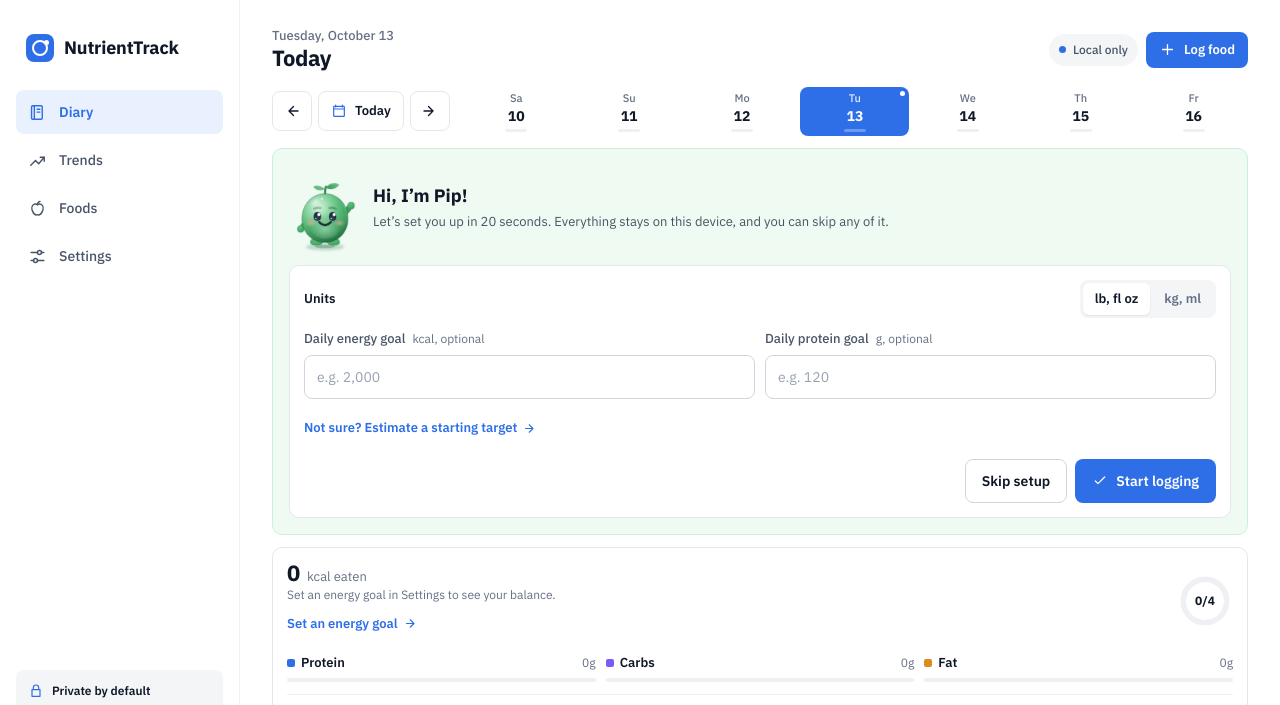
Test case: first-run welcome › saves_the_answers_as_goals_and_marks_the_welcome_done
Expected: the element "Hi, I’m Pip!" is shown, [272,148,1248,535]
Click the button "kg, ml". click: x=1183, y=299
box: [1152,283,1213,315]
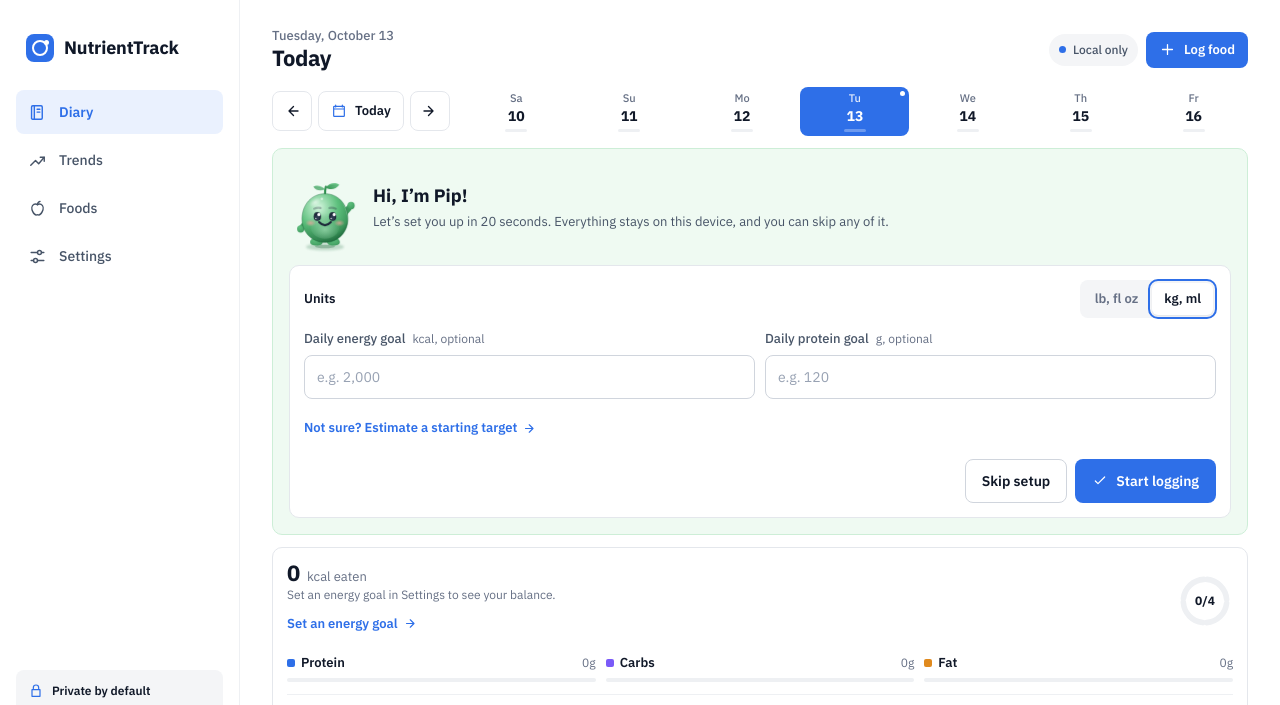
Type "2100" into the number field labelled "Daily energy goal kcal, optional". click: x=530, y=377
box: [304,355,755,399]
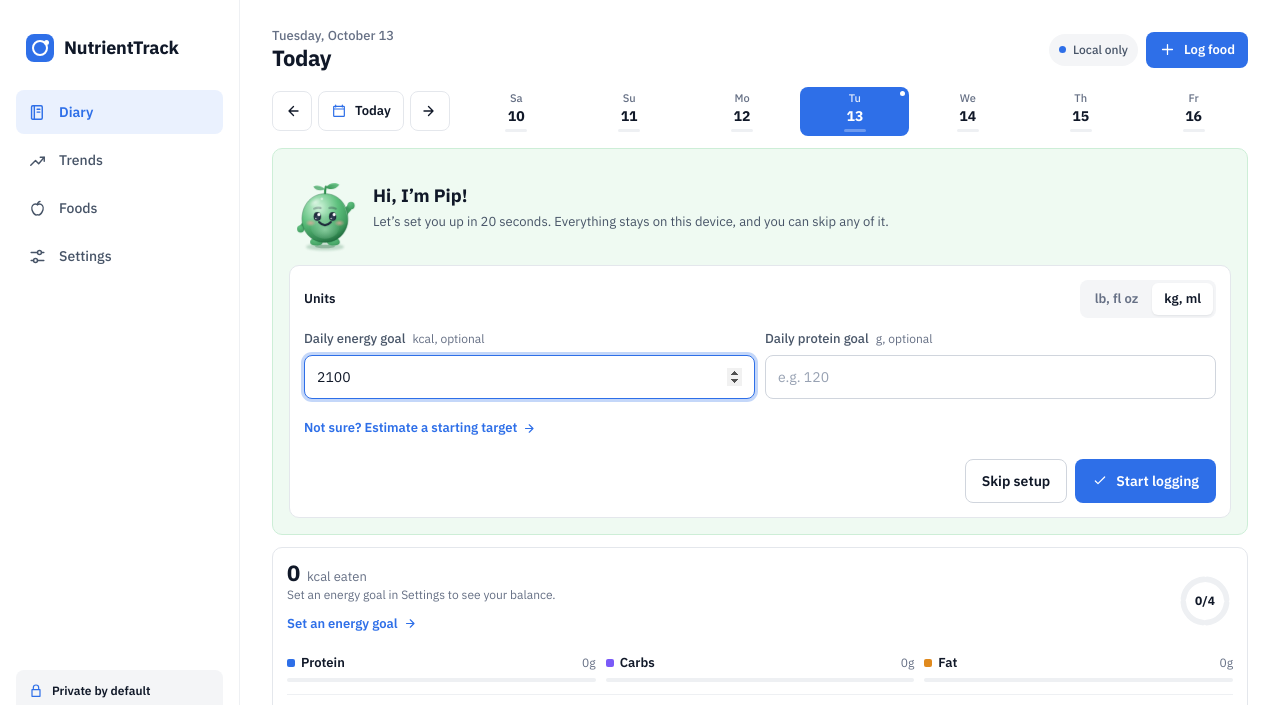
Type "130" into the number field labelled "Daily protein goal g, optional". click: x=990, y=377
box: [765,355,1216,399]
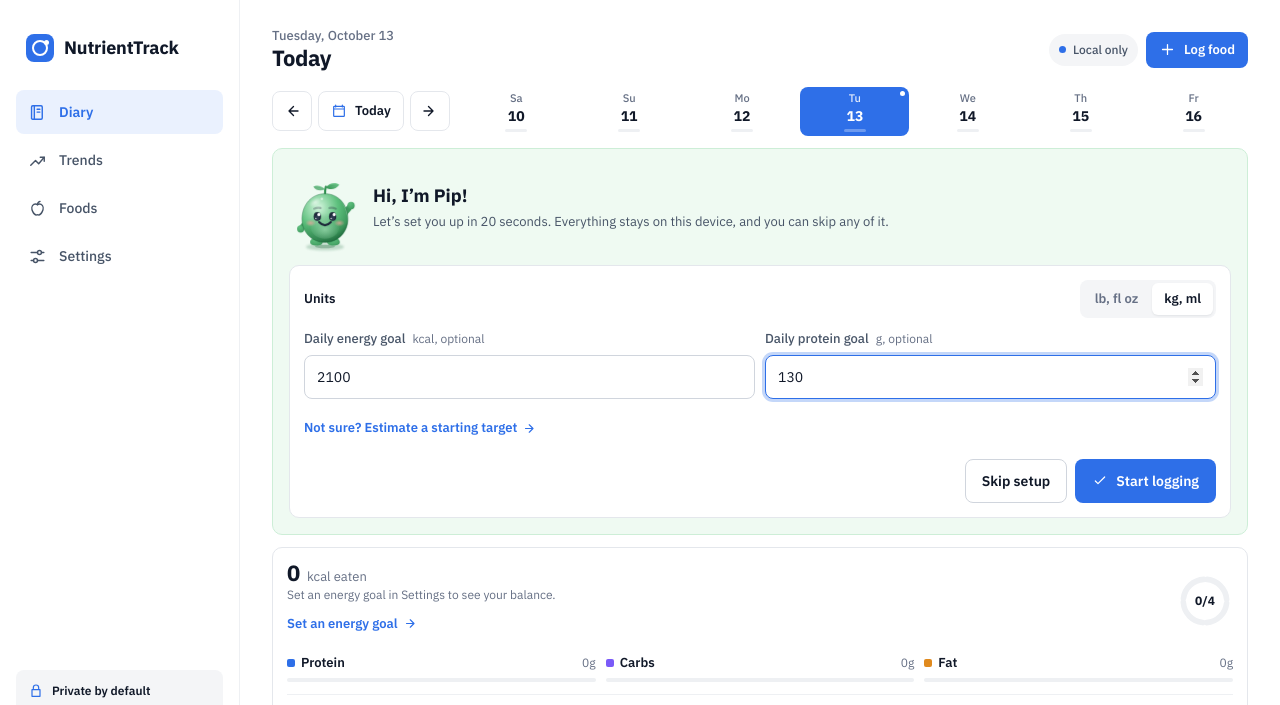
Click the button "Start logging". click: x=1146, y=481
box: [1075,459,1216,503]
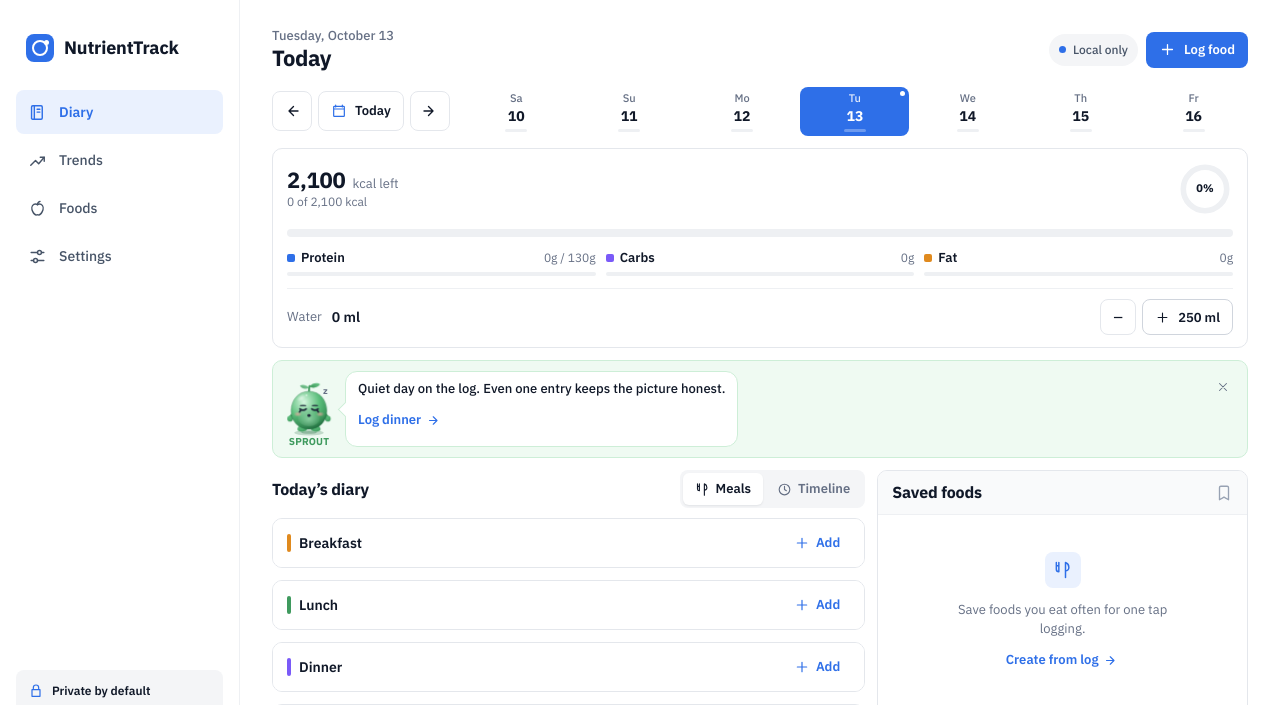
Now the heading "Hi, I’m Pip!" is gone
